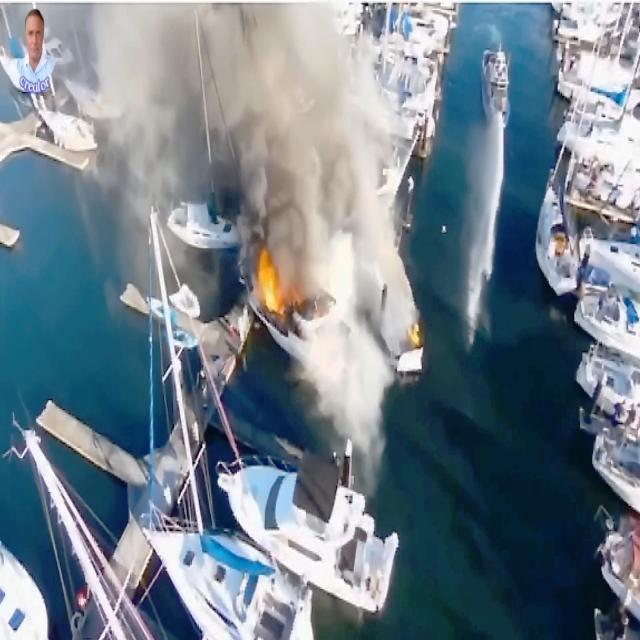Fire: (256, 243, 292, 312), (409, 314, 422, 356)
Smoke: (85, 1, 390, 185), (298, 188, 404, 450), (240, 186, 296, 248)
